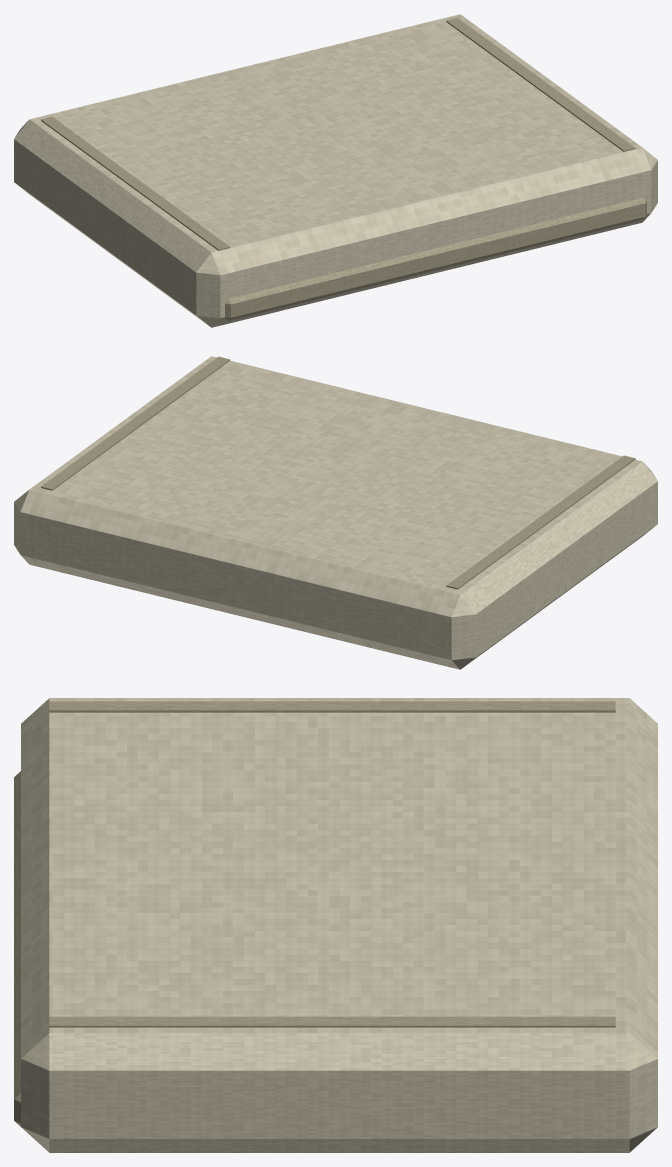
File: folded_towel.glb
3 views of the same model, one above another, from view 1: azimuth 30°, elevation 25°; view 2: azimuth 150°, elevation 25°; view 3: azimuth 270°, elevation 25° (orthographic). The views are drawn at different scales.
Parts seen in each view (by area): view 1: folded_towel; view 2: folded_towel; view 3: folded_towel.
Part boxes in pixels (left/top/right/bottom): folded_towel: left=14, top=14, right=657, bottom=327; folded_towel: left=14, top=356, right=657, bottom=669; folded_towel: left=14, top=698, right=657, bottom=1152.
Bounding box in the file's own units: 0.36 × 0.057 × 0.273.
2 materials, 2 textured.
